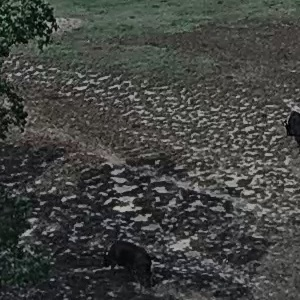cow: (88, 230, 173, 290)
